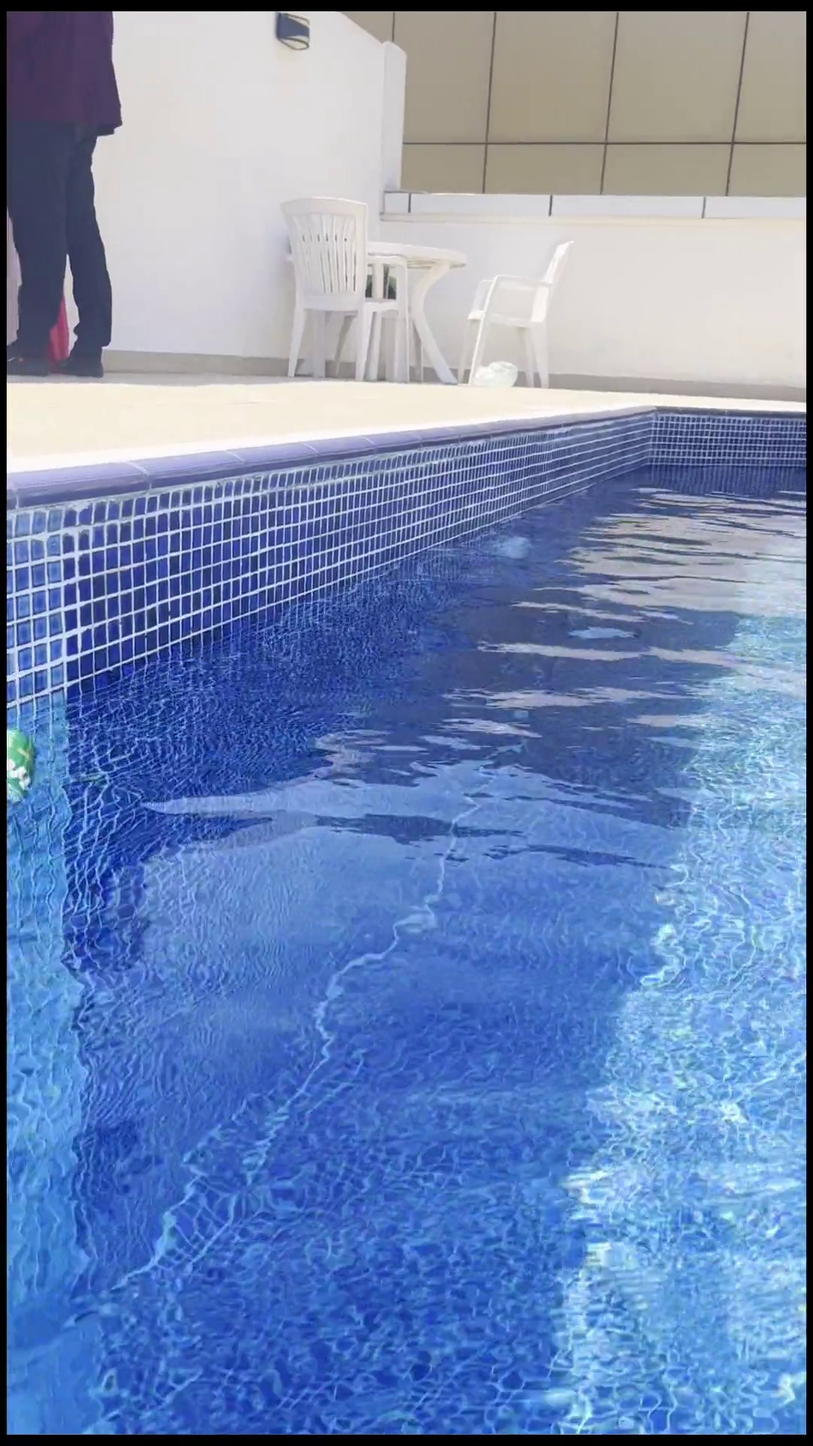debris: (8, 718, 38, 807)
